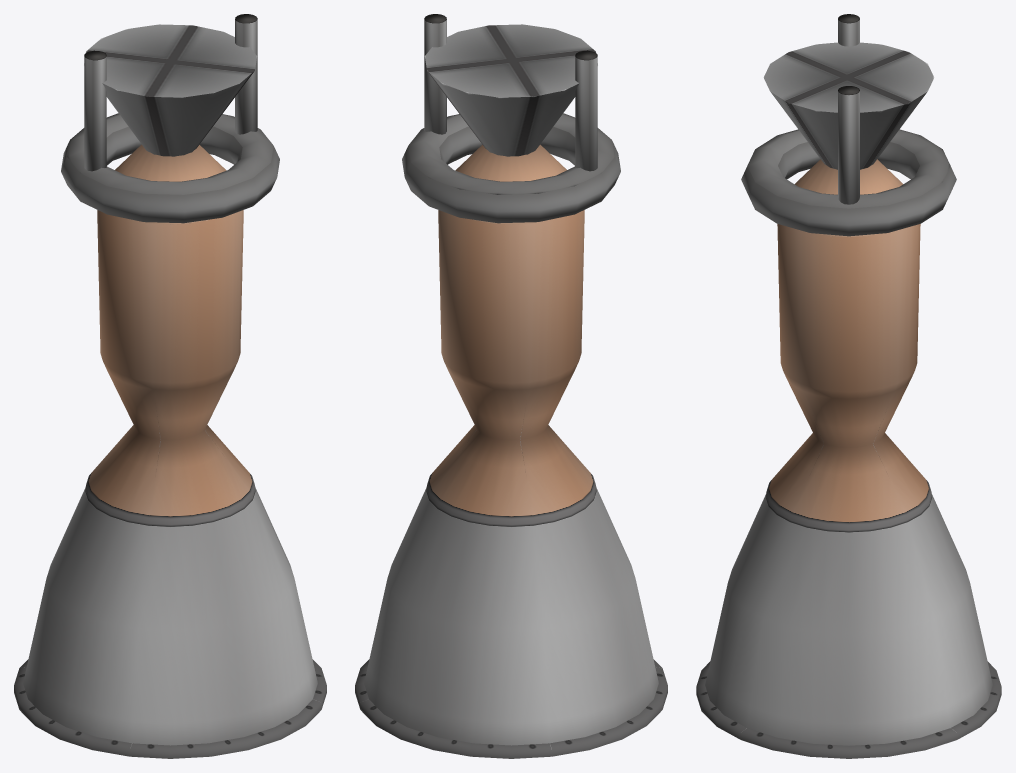
3 views of the same model, side by side, from view 1: azimuth 30°, elevation 25°; view 2: azimuth 150°, elevation 25°; view 3: azimuth 270°, elevation 25° (orthographic). The views are drawn at different scales.
Visible parts, largest first — view 1: Engine_Bell, Thrust_Plate; view 2: Engine_Bell, Thrust_Plate; view 3: Engine_Bell, Thrust_Plate.
Boxes of the visible parts, bbox=[...] form: Engine_Bell: bbox=[14, 144, 326, 758]; Thrust_Plate: bbox=[61, 14, 279, 223]; Engine_Bell: bbox=[355, 144, 667, 758]; Thrust_Plate: bbox=[402, 14, 620, 223]; Engine_Bell: bbox=[696, 159, 1001, 758]; Thrust_Plate: bbox=[741, 14, 956, 236].
Size of the model in its own units: 0.6369 by 1.47 by 0.6369.
